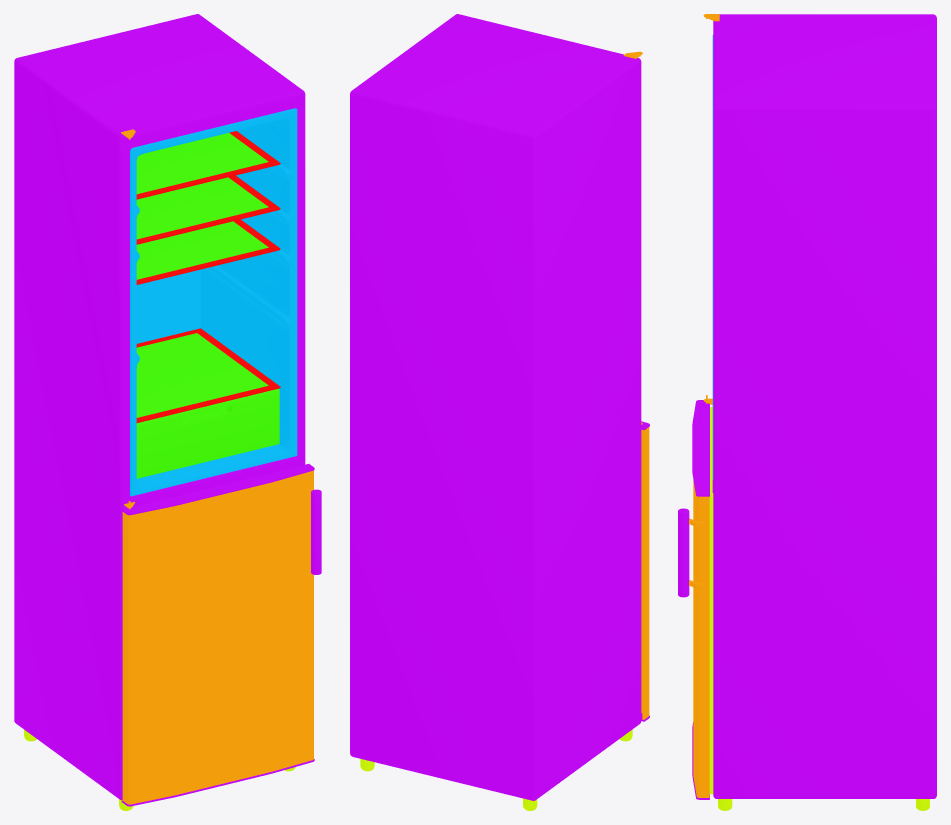
The model's file is Fridge.fbx.
The picture shows the model from 3 angles, left to right: view 1: azimuth 30°, elevation 25°; view 2: azimuth 150°, elevation 25°; view 3: azimuth 270°, elevation 25°; orthographic projection. The views are drawn at different scales.
Visible parts, largest first — view 1: Fridge; view 2: Fridge; view 3: Fridge.
Boxes of the visible parts, bbox=[...] form: Fridge: bbox=[14, 14, 321, 810]; Fridge: bbox=[350, 14, 649, 810]; Fridge: bbox=[678, 14, 936, 810].
Size of the model in its own units: 60.89 by 210 by 69.46.
